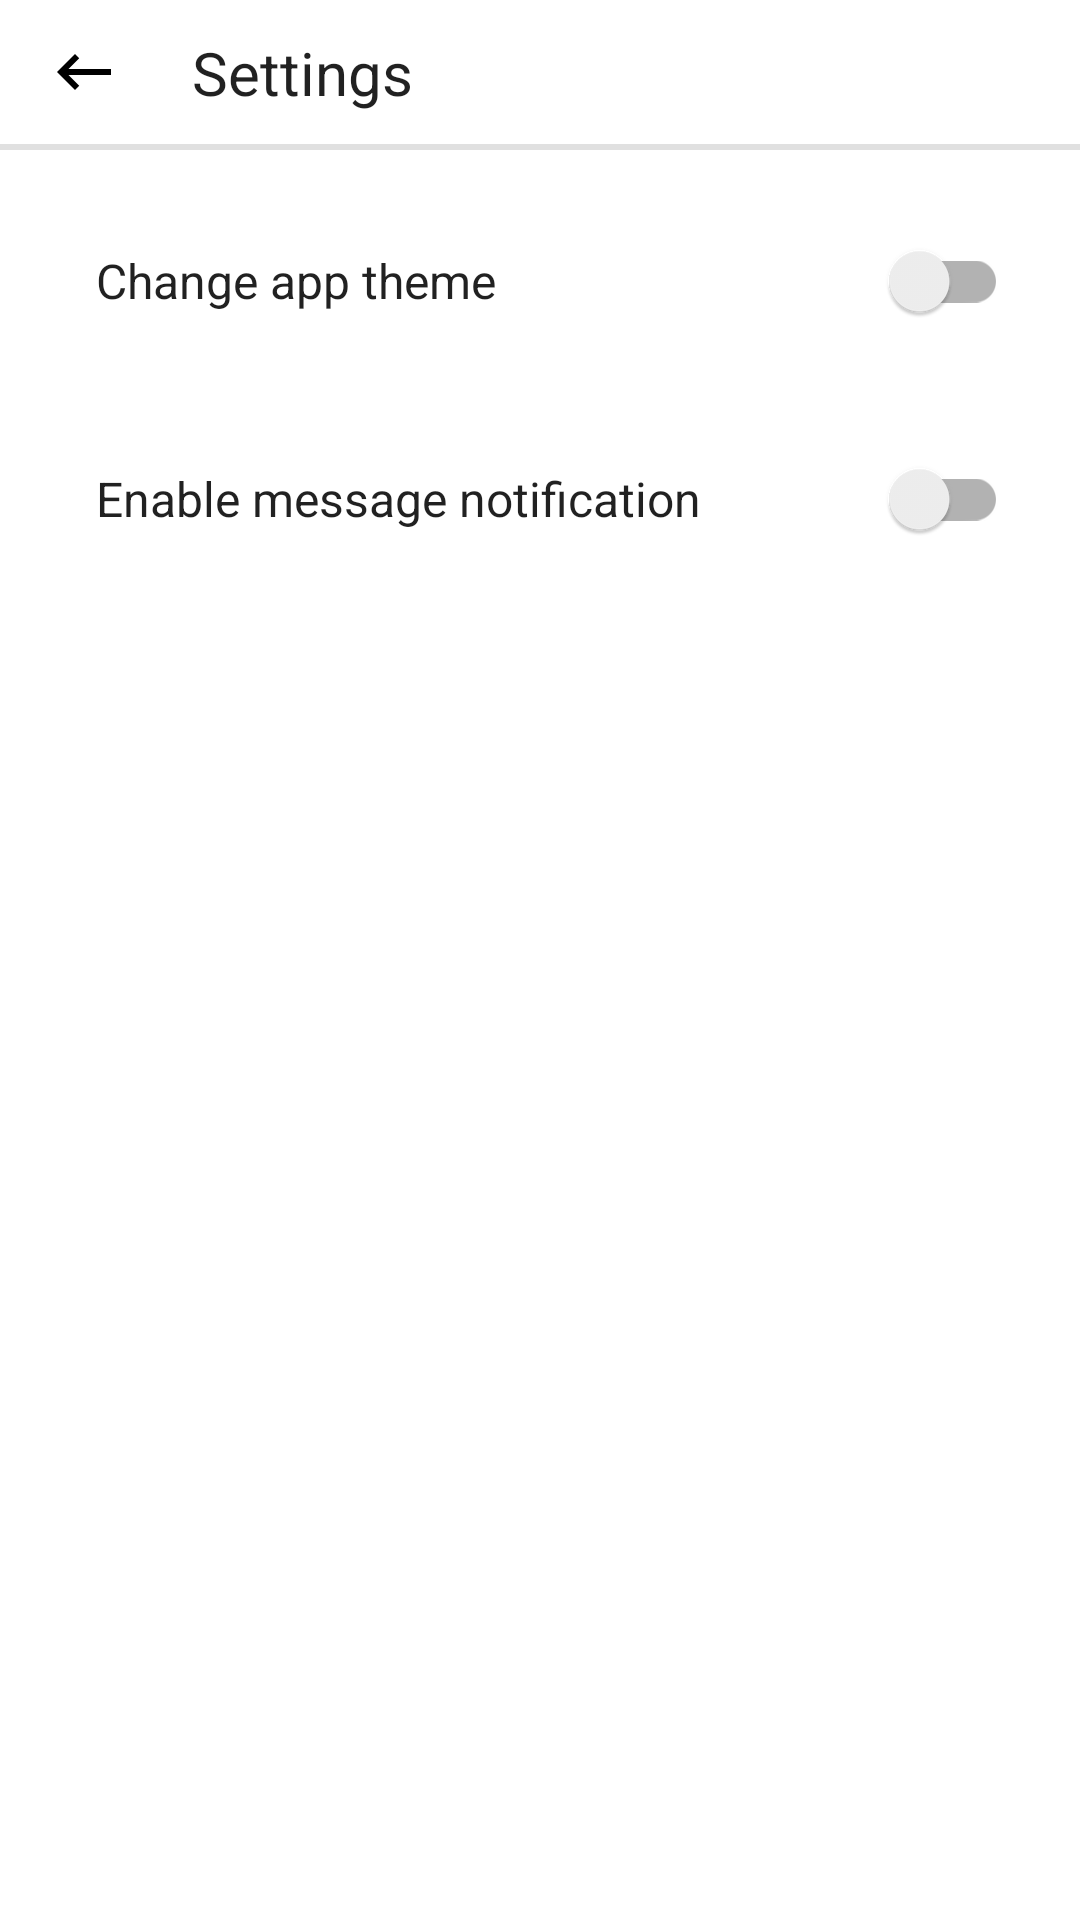

Icon click points for this 1080px×1920px phone screenshot, format (x,y):
arrow: (84,72)
